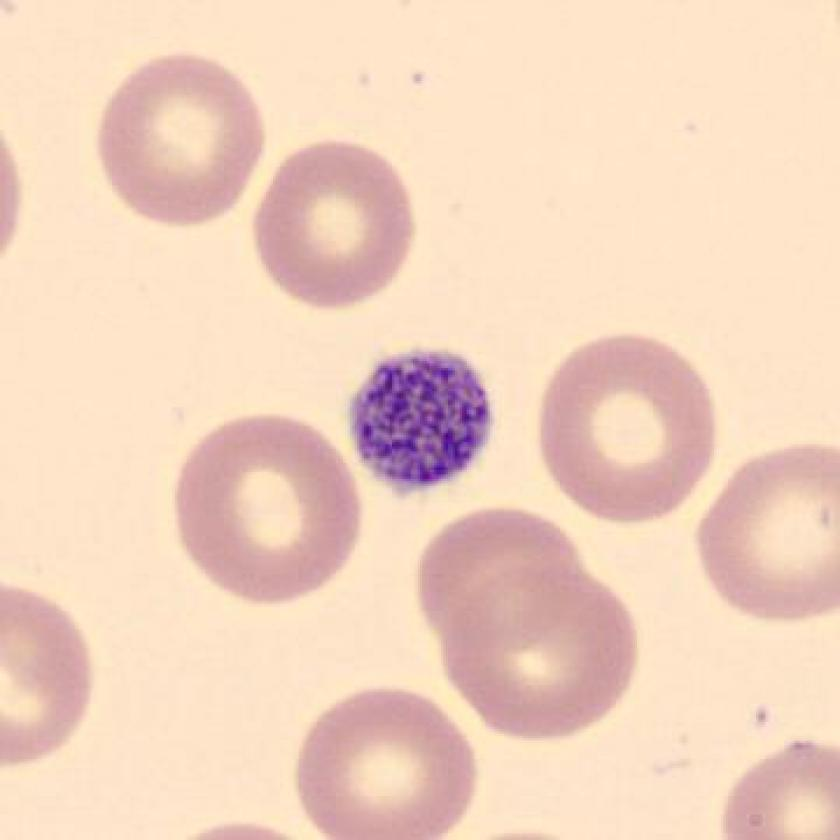platelets: (342, 339, 500, 501)
